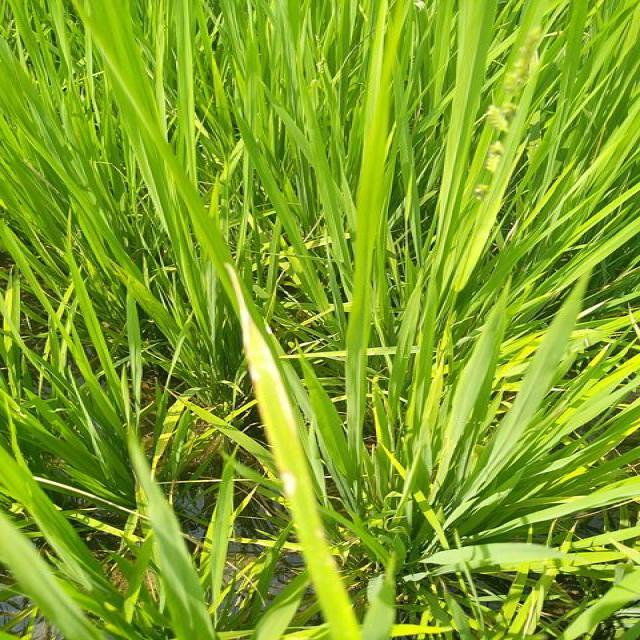Leaf Blight: (221, 263, 361, 639)
